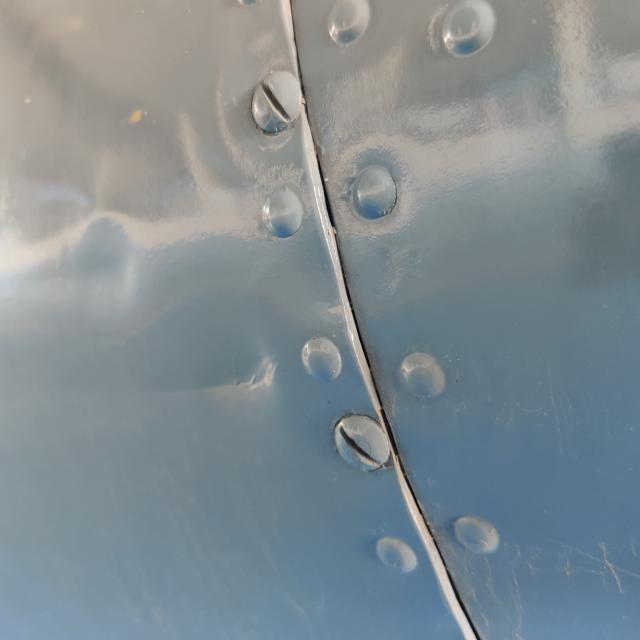dent: (184, 335, 290, 427)
